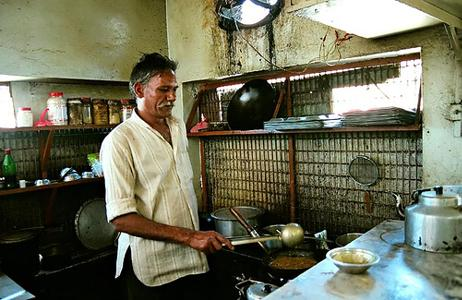person: (99, 53, 234, 299)
